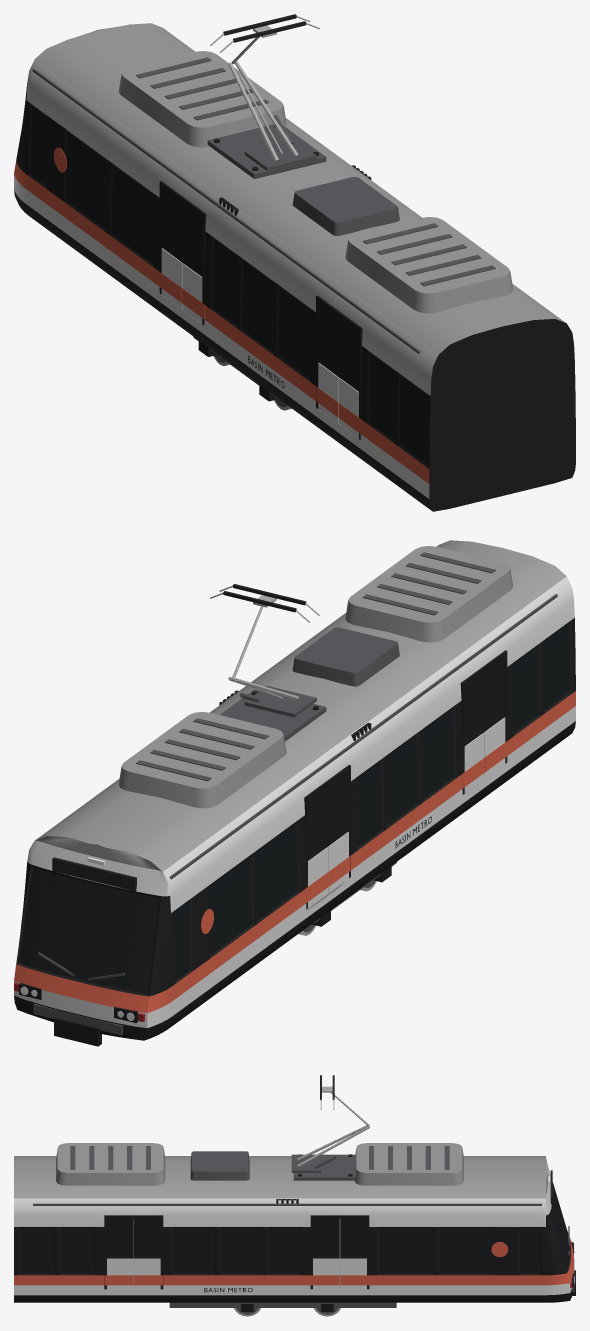
Rendered from light_rail_car.glb.
3 views of the same model, one above another, from view 1: azimuth 30°, elevation 25°; view 2: azimuth 150°, elevation 25°; view 3: azimuth 270°, elevation 25° (orthographic). The views are drawn at different scales.
Parts seen in each view (by area): view 1: Body, Pantograph, Door_L_1_B, Door_L_1_A, Door_L_0_A, Door_L_0_B; view 2: Body, Pantograph, Door_L_0_A, Door_L_1_B, Door_L_1_A, Door_L_0_B; view 3: Body, Door_R_0_A, Door_R_1_A, Door_R_1_B, Door_R_0_B, Pantograph, Bogie.
Part boxes in pixels (box(x1,y1,x2,y2)): Body: box(14, 23, 575, 511); Pantograph: box(210, 14, 319, 171); Door_L_1_B: box(159, 187, 183, 308); Door_L_1_A: box(182, 197, 205, 323); Door_L_0_A: box(338, 316, 361, 438); Door_L_0_B: box(316, 301, 338, 423); Body: box(14, 540, 575, 1046); Pantograph: box(210, 584, 319, 717); Door_L_0_A: box(483, 650, 507, 778); Door_L_1_B: box(305, 781, 328, 907); Door_L_1_A: box(327, 765, 350, 892); Door_L_0_B: box(461, 667, 484, 792); Body: box(14, 1143, 575, 1307); Door_R_0_A: box(104, 1215, 133, 1289); Door_R_1_A: box(310, 1215, 339, 1289); Door_R_1_B: box(340, 1215, 369, 1289); Door_R_0_B: box(134, 1215, 162, 1289); Pantograph: box(291, 1075, 369, 1172); Bogie: box(232, 1302, 341, 1316).
Size of the model in its own units: 2.67 by 5.65 by 13.36.
